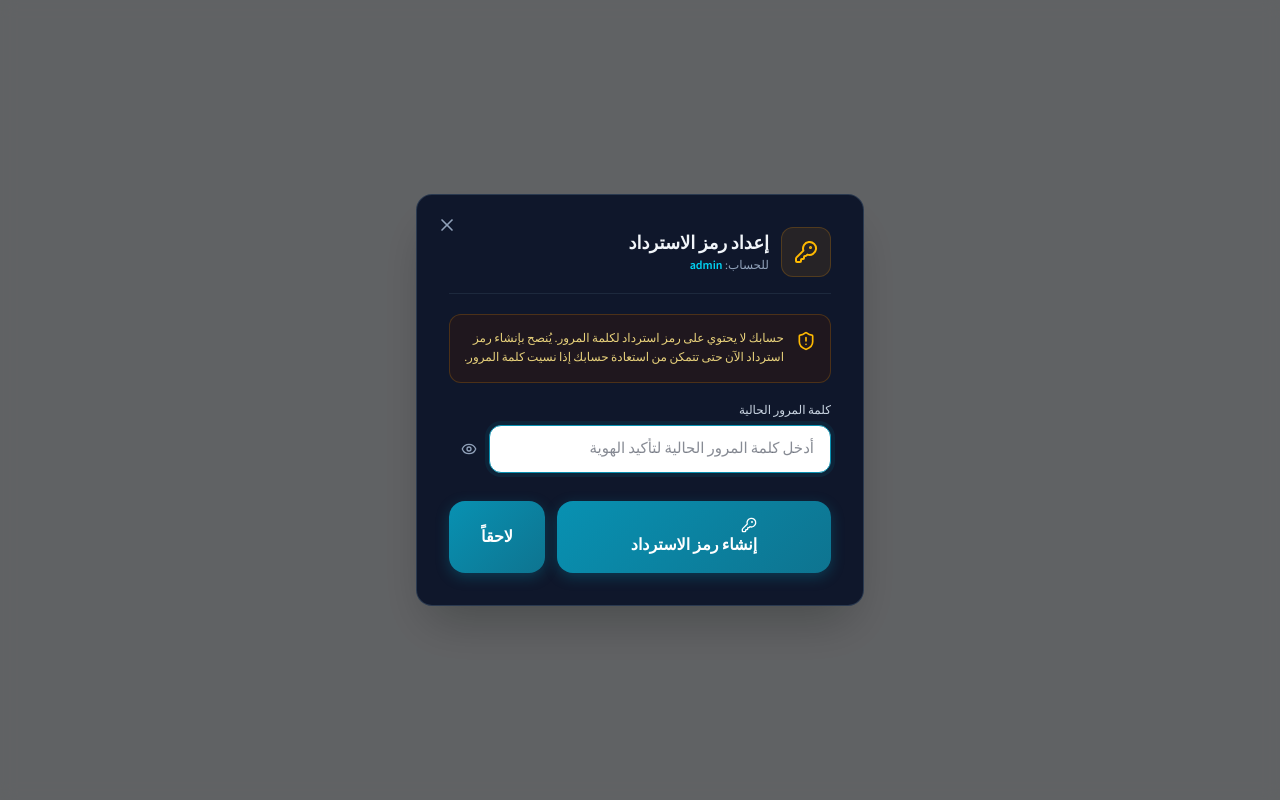
RecoverySetupModal (Legacy mode) › TEST 4+6: correct current password creates and displays the Recovery Code once
The image size is (1280, 800).
In the password field with placeholder "أدخل كلمة المرور الحالية لتأكيد الهوية": (660, 449) [489,425,831,473], type "Pass1234"
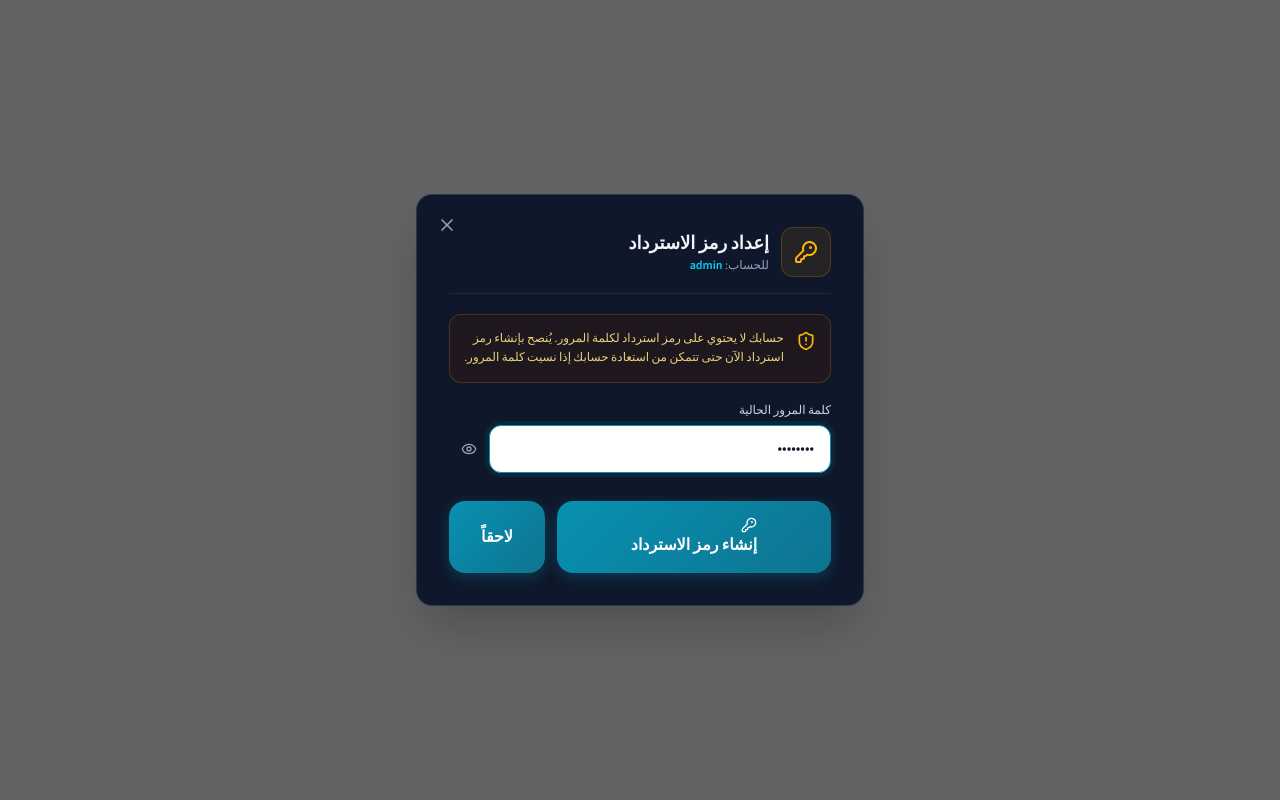
Click the button "إنشاء رمز الاسترداد": (694, 537) [557,501,831,573]
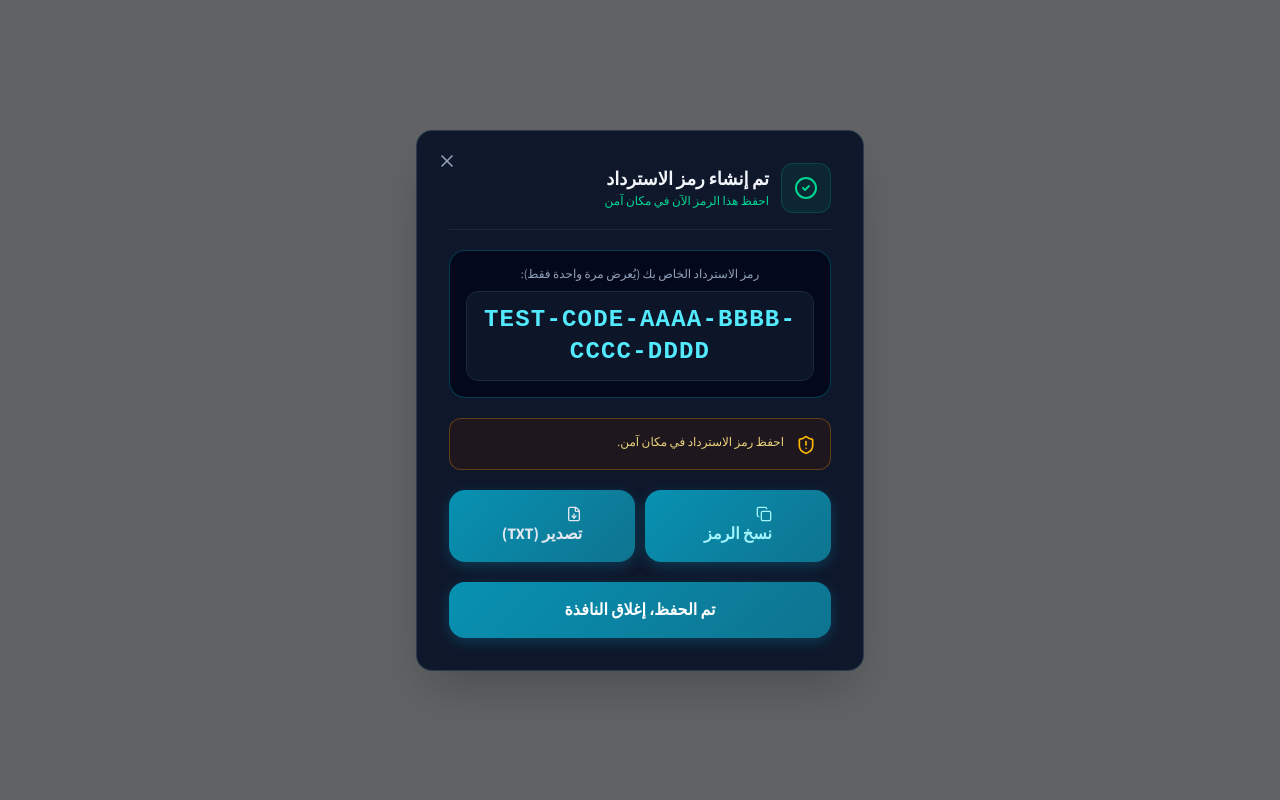
Expected: the text "TEST-CODE-AAAA-BBBB-CCCC-DDDD" is shown, [466,290,814,380]
